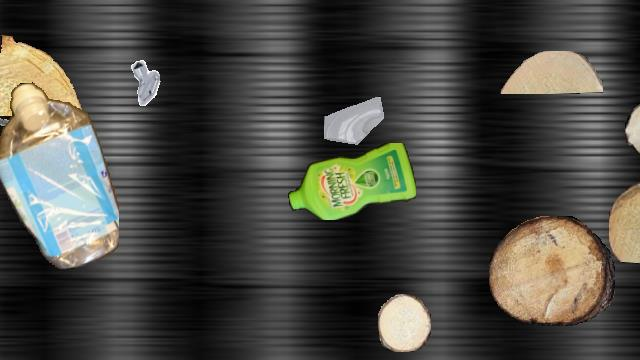glass: (324, 96, 386, 158), (0, 133, 3, 225)
metal: (124, 57, 172, 105), (0, 104, 26, 148)
plastic: (0, 81, 118, 269), (288, 143, 416, 219), (0, 1, 3, 119)
wood: (489, 216, 615, 326), (0, 35, 93, 115), (500, 51, 602, 93), (378, 294, 430, 352), (609, 178, 640, 264), (625, 102, 640, 158)
